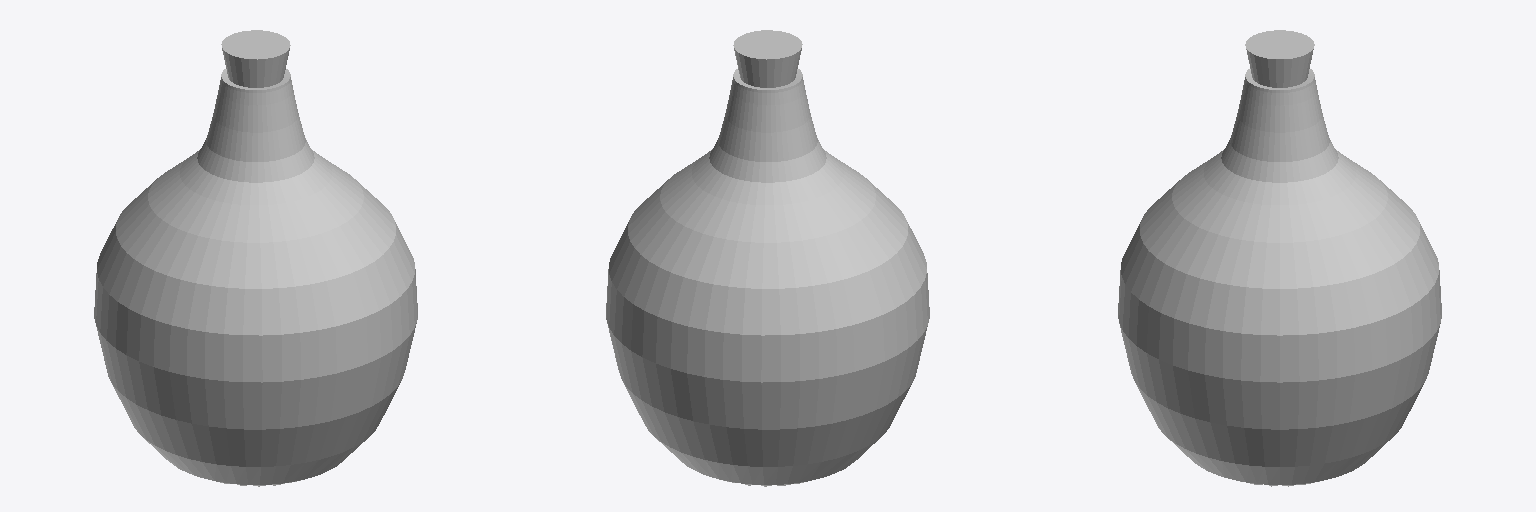
Rendered from potion.obj.
The picture shows the model from 3 angles: view 1: azimuth 30°, elevation 25°; view 2: azimuth 150°, elevation 25°; view 3: azimuth 270°, elevation 25°; orthographic projection.
Visible parts, largest first — view 1: Cylinder, Cylinder.002; view 2: Cylinder, Cylinder.002; view 3: Cylinder, Cylinder.002.
Boxes of the visible parts, box(x1,y1,x2,y2) form: Cylinder: box(94, 69, 417, 486); Cylinder.002: box(221, 30, 290, 87); Cylinder: box(606, 69, 929, 486); Cylinder.002: box(733, 30, 802, 87); Cylinder: box(1118, 69, 1441, 486); Cylinder.002: box(1245, 30, 1314, 87).
Size of the model in its own units: 2.47 by 3.55 by 2.47.